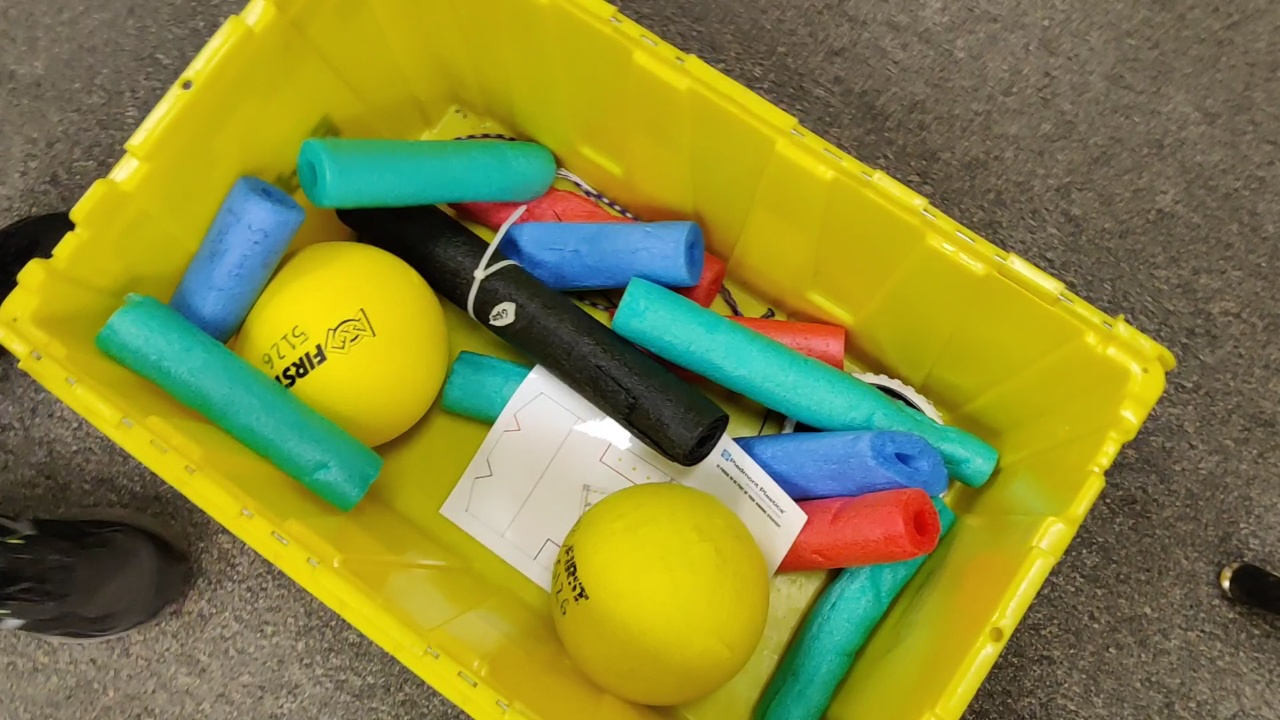Ball: (549, 488, 771, 702), (239, 240, 445, 452)
